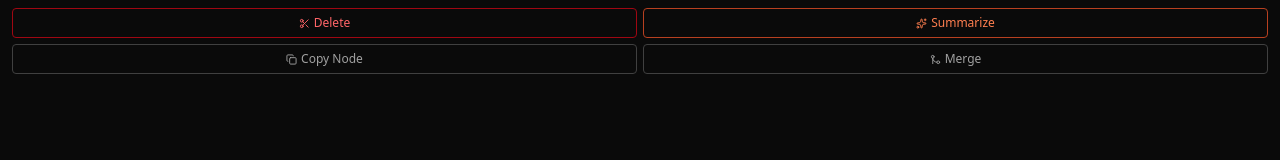
NodeControls — merge mode › shows merge UI when Merge button is clicked
Step 1. Click the button "Merge" → point(956, 59), box [643,44,1268,74]
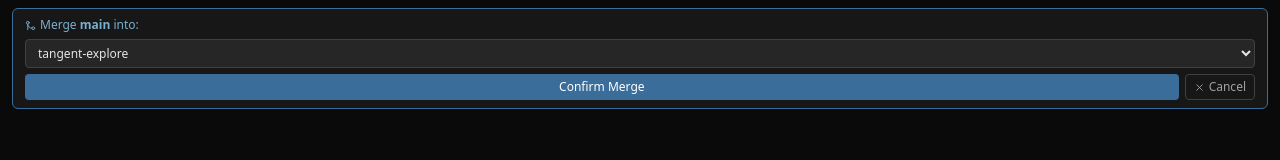
Expected: the button "Confirm Merge" is shown, [25,74,1179,100]
